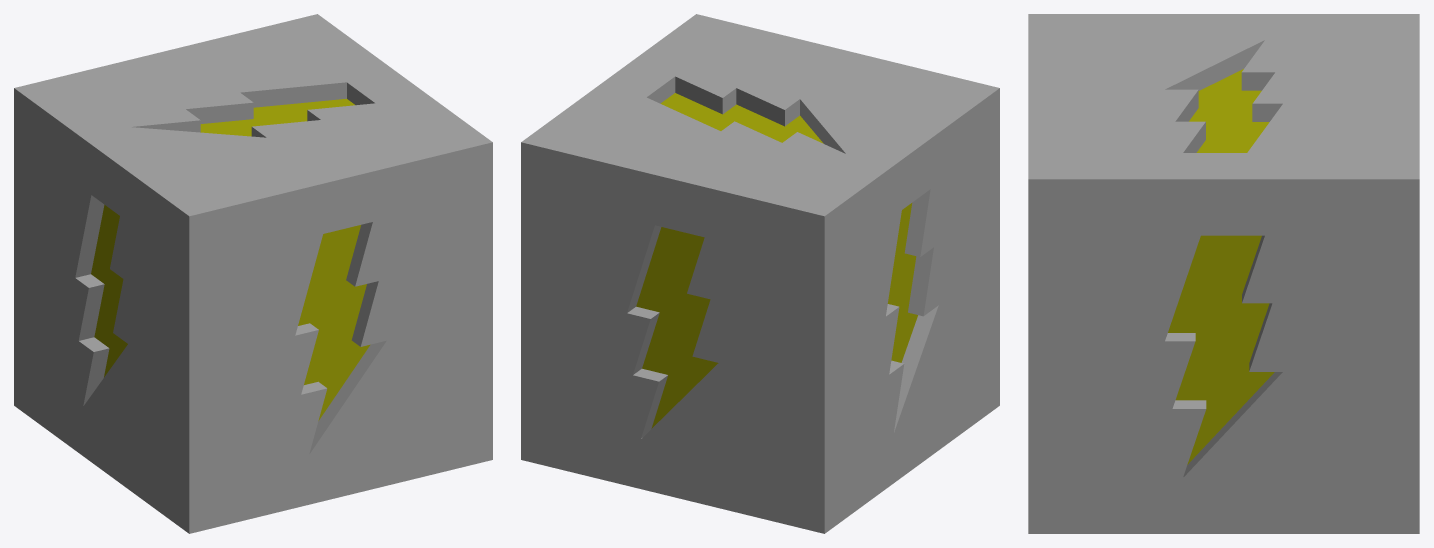
The model's file is power_box.fbx.
3 renders of one model, left to right at view 1: azimuth 30°, elevation 25°; view 2: azimuth 150°, elevation 25°; view 3: azimuth 270°, elevation 25°, orthographic. The views are drawn at different scales.
Visible parts, largest first — view 1: power_box; view 2: power_box; view 3: power_box.
Boxes of the visible parts, x1=… form: power_box: x1=14, y1=14, x2=492, y2=533; power_box: x1=521, y1=14, x2=999, y2=533; power_box: x1=1028, y1=14, x2=1419, y2=533.
Size of the model in its own units: 261 by 261 by 261.
